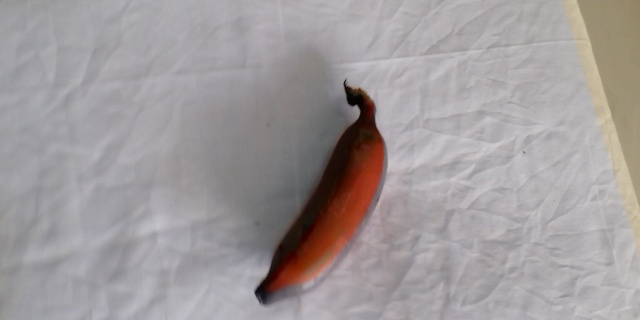banana_red: (256, 80, 384, 297)
